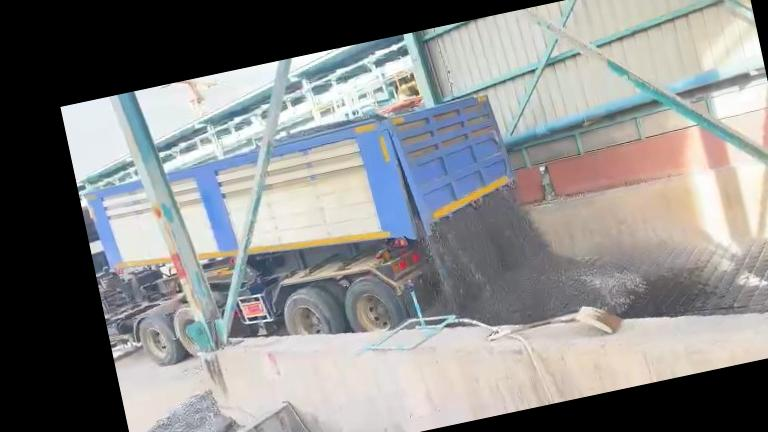gravel: (429, 191, 646, 324), (133, 392, 238, 432)
